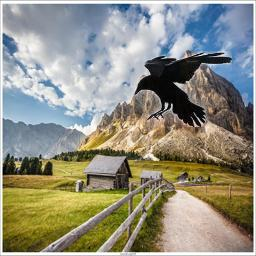Crow: (134, 51, 232, 127)
